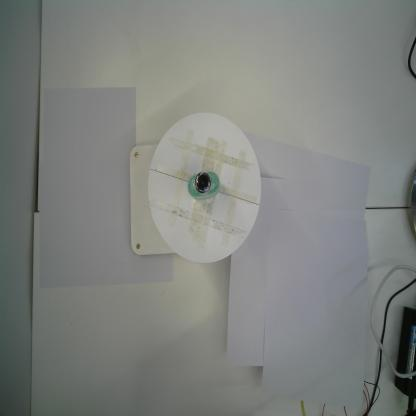Personal Hygiene: (187, 171, 221, 200)
